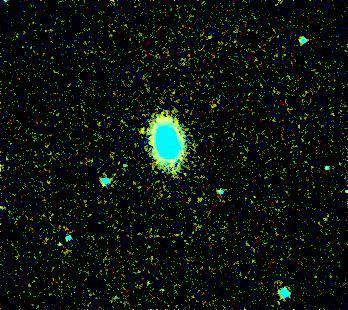star: (125, 115, 155, 145)
